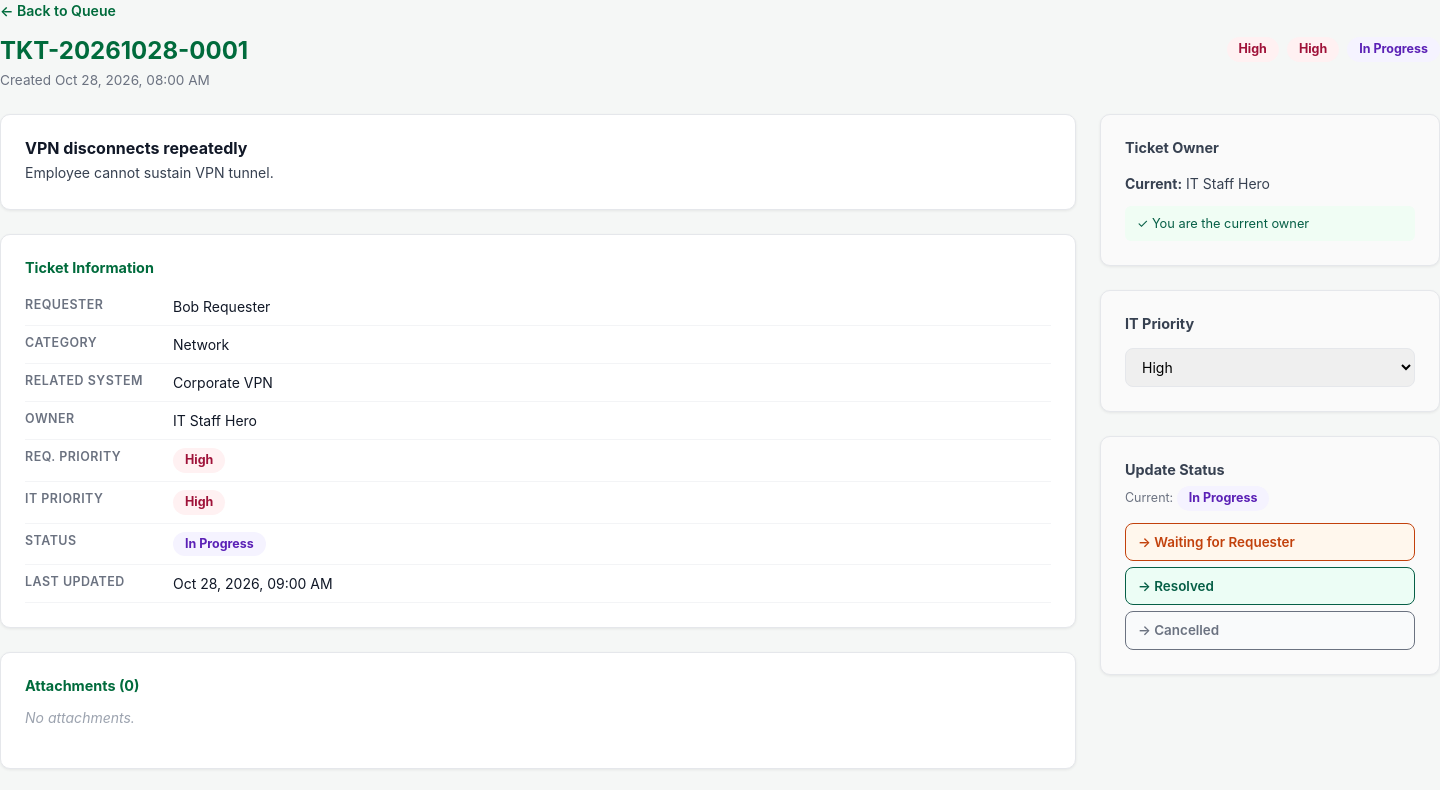
Test: Ticket Workflow & Resolution Gate UI — Component Tests (Lab 4) › UI-WF-01: Resolution Gate UI alert when resolving without action › intercepts transition to Resolved and displays Resolution Gate alert banner when ticket has 0 actions
This screenshot has width=1440, height=790.
Expected: the heading "TKT-20261028-0001" is shown, 0,37 -> 248,66
What coordinates should you click on to do the following:
click the button "→ Resolved"
I would click on:
 (1184, 586)
Its box is 1125,567 -> 1415,605.
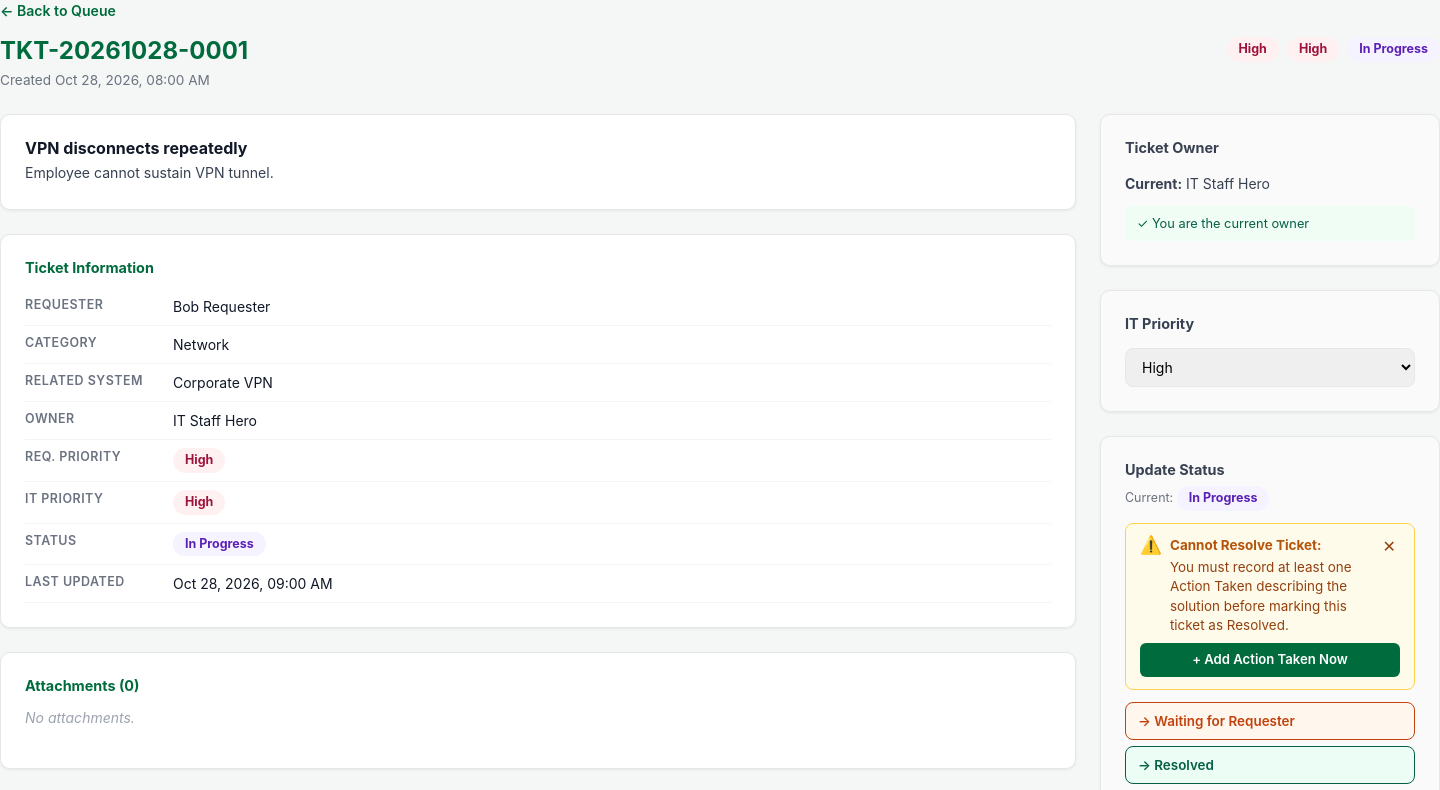
Expected: the message is shown, 1125,523 -> 1415,690
Expected: the text "Cannot Resolve Ticket:" is shown, 1170,537 -> 1322,553
Expected: the text "You must record at least one Action Taken describing the solution before marking this ticket as Resolved" is shown, 1170,558 -> 1352,633
